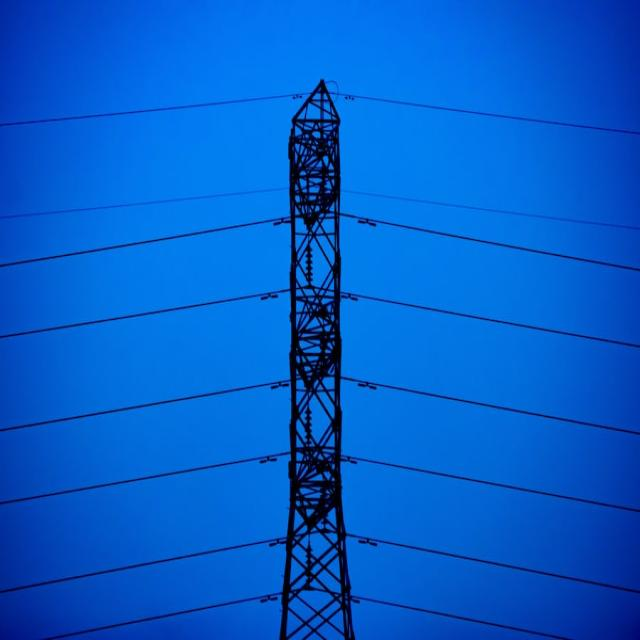transmission tower: (226, 64, 460, 624)
